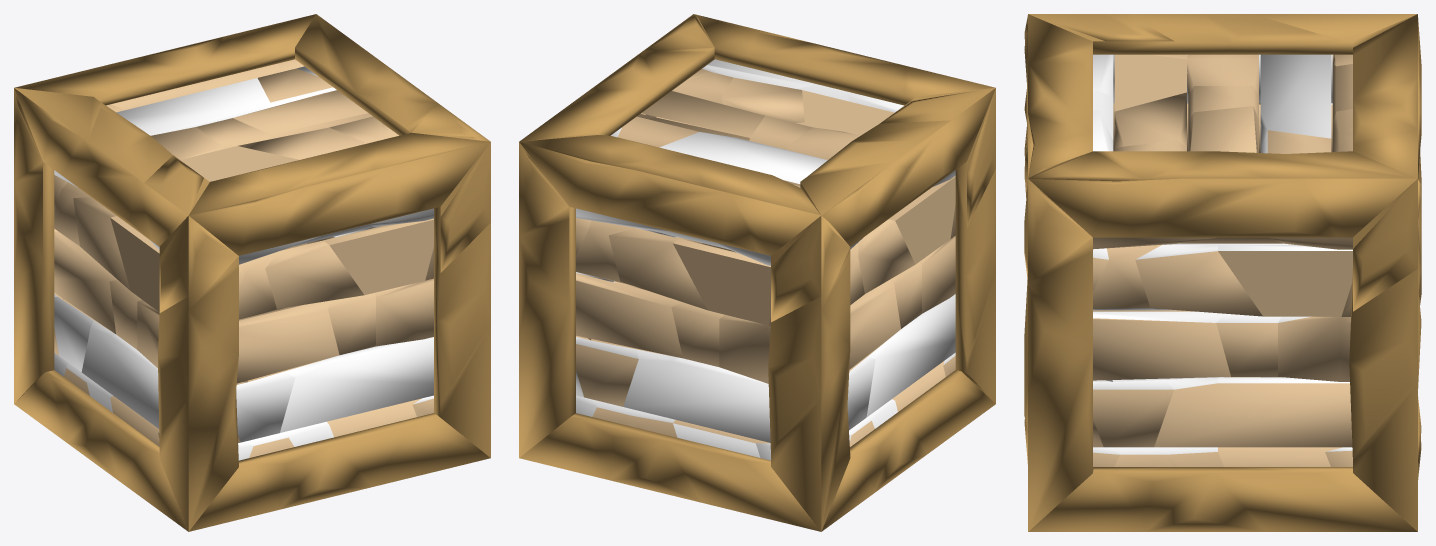
The picture shows the model from 3 angles, left to right: view 1: azimuth 30°, elevation 25°; view 2: azimuth 150°, elevation 25°; view 3: azimuth 270°, elevation 25°; orthographic projection. The views are drawn at different scales.
Visible parts, largest first — view 1: Group7, Group12, Group5, Box_Ugol4_3, Box_Ugol3_3, Box_ugol3, Box_Ugol2_3, Box_ugol6, Box_Ugol4_2, Box_Ugol4_6, Box_ugol2, Box_Ugol3_6 (+3 smaller); view 2: Group2, Group12, Group5, Box_Ugol4_1, Box_ugol1, Box_Ugol3_1, Box_Ugol2_1, Box_Ugol3_6, Box_Ugol2_2, Box_Ugol4_6, Box_ugol2, Box_ugol6 (+3 smaller); view 3: Group11, Group5, Box_Ugol4_5, Box_Ugol3_5, Box_Ugol2_5, Box_ugol5, Box_Ugol3_2, Box_ugol2, Box_Ugol4_2, Box_Ugol2_2, Group12, Box_Ugol3_3 (+2 smaller).
Boxes of the visible parts, <box> form: Group7: <box>236,208,433,460</box>; Group12: <box>54,170,159,446</box>; Group5: <box>106,59,398,181</box>; Box_Ugol4_3: <box>189,413,490,531</box>; Box_Ugol3_3: <box>434,142,490,457</box>; Box_ugol3: <box>188,216,238,531</box>; Box_Ugol2_3: <box>189,142,490,255</box>; Box_ugol6: <box>14,88,54,403</box>; Box_Ugol4_2: <box>15,14,315,105</box>; Box_Ugol4_6: <box>14,370,188,531</box>; Box_ugol2: <box>295,14,490,141</box>; Box_Ugol3_6: <box>158,216,188,531</box>; Group2: <box>576,208,770,460</box>; Group12: <box>847,170,955,446</box>; Group5: <box>611,59,903,187</box>; Box_Ugol4_1: <box>519,413,820,531</box>; Box_ugol1: <box>519,142,575,457</box>; Box_Ugol3_1: <box>768,216,821,531</box>; Box_Ugol2_1: <box>519,142,820,255</box>; Box_Ugol3_6: <box>955,88,995,403</box>; Box_Ugol2_2: <box>694,14,994,105</box>; Box_Ugol4_6: <box>821,370,995,531</box>; Box_ugol2: <box>519,14,714,141</box>; Box_ugol6: <box>821,216,850,531</box>; Group11: <box>1093,237,1352,471</box>; Group5: <box>1093,54,1352,153</box>; Box_Ugol4_5: <box>1028,467,1417,531</box>; Box_Ugol3_5: <box>1349,179,1417,531</box>; Box_Ugol2_5: <box>1028,178,1417,237</box>; Box_ugol5: <box>1028,179,1092,531</box>; Box_Ugol3_2: <box>1028,14,1416,54</box>; Box_ugol2: <box>1028,151,1416,181</box>; Box_Ugol4_2: <box>1353,14,1417,178</box>; Box_Ugol2_2: <box>1028,14,1092,178</box>; Group12: <box>1093,54,1332,311</box>; Box_Ugol3_3: <box>1024,182,1027,430</box>.
Size of the model in its own units: 550 by 550 by 550.
